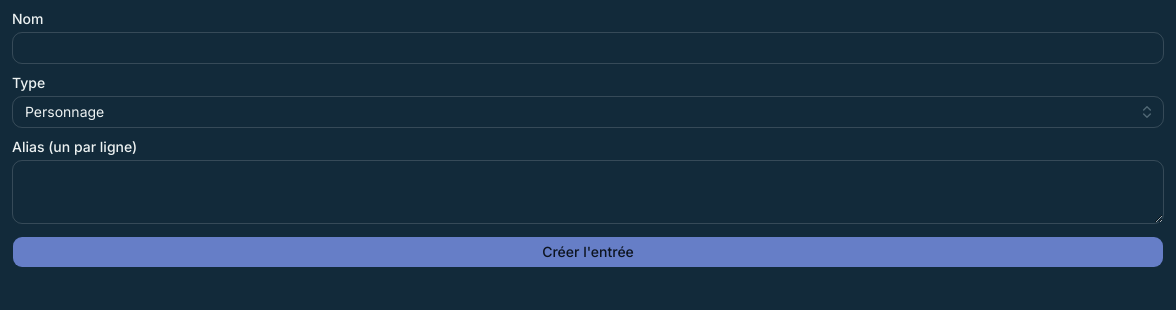
Test: CreateEntityForm › reaffiche le nom saisi apres une erreur de validation
Click the button with test id "create-entity-submit" at [588, 252], box [12,236,1164,268]
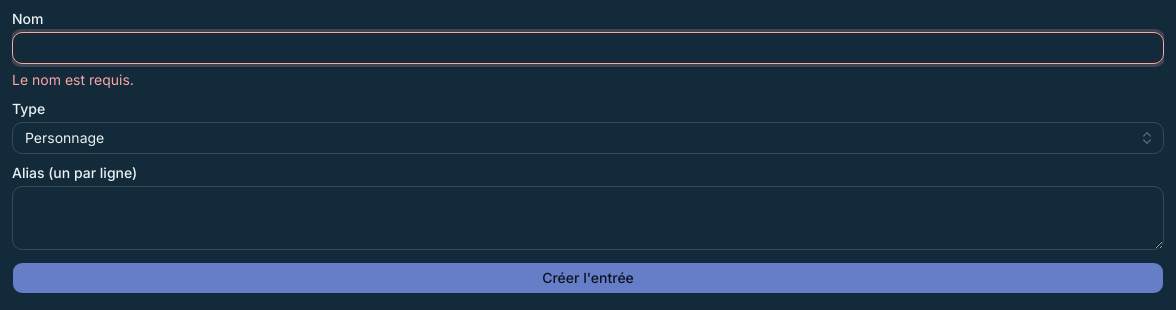
Check: the field labelled "Nom" holds "   ", box [12,32,1164,64]
Check: the text "Le nom est requis." is shown, box [12,71,134,88]
